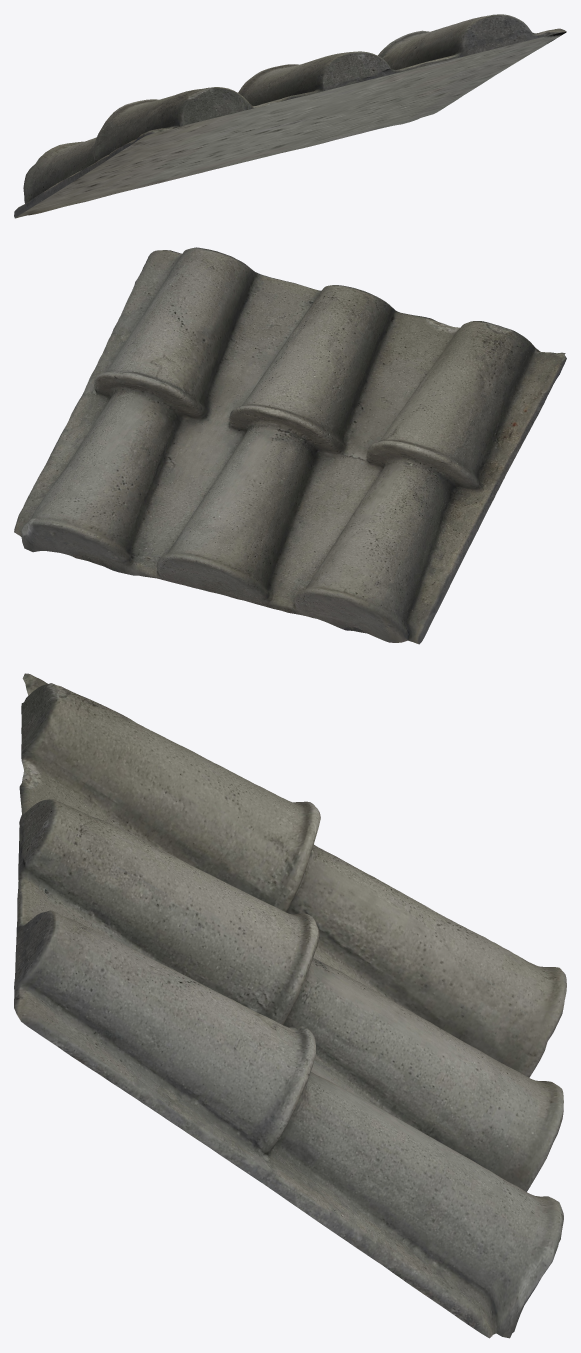
Rendered from Retopo_3DModel_mesh.112.glb.
3 views of the same model, one above another, from view 1: azimuth 30°, elevation 25°; view 2: azimuth 150°, elevation 25°; view 3: azimuth 270°, elevation 25° (orthographic). The views are drawn at different scales.
Parts seen in each view (by area): view 1: Retopo_3DModel_mesh.112; view 2: Retopo_3DModel_mesh.112; view 3: Retopo_3DModel_mesh.112.
Part boxes in pixels (<box>): Retopo_3DModel_mesh.112: <box>14,14,566,218</box>; Retopo_3DModel_mesh.112: <box>14,247,566,644</box>; Retopo_3DModel_mesh.112: <box>14,673,566,1338</box>.
Bounding box in the file's own units: 4.91 × 2.43 × 3.24.
Materials: 1 (1 with a texture image).
